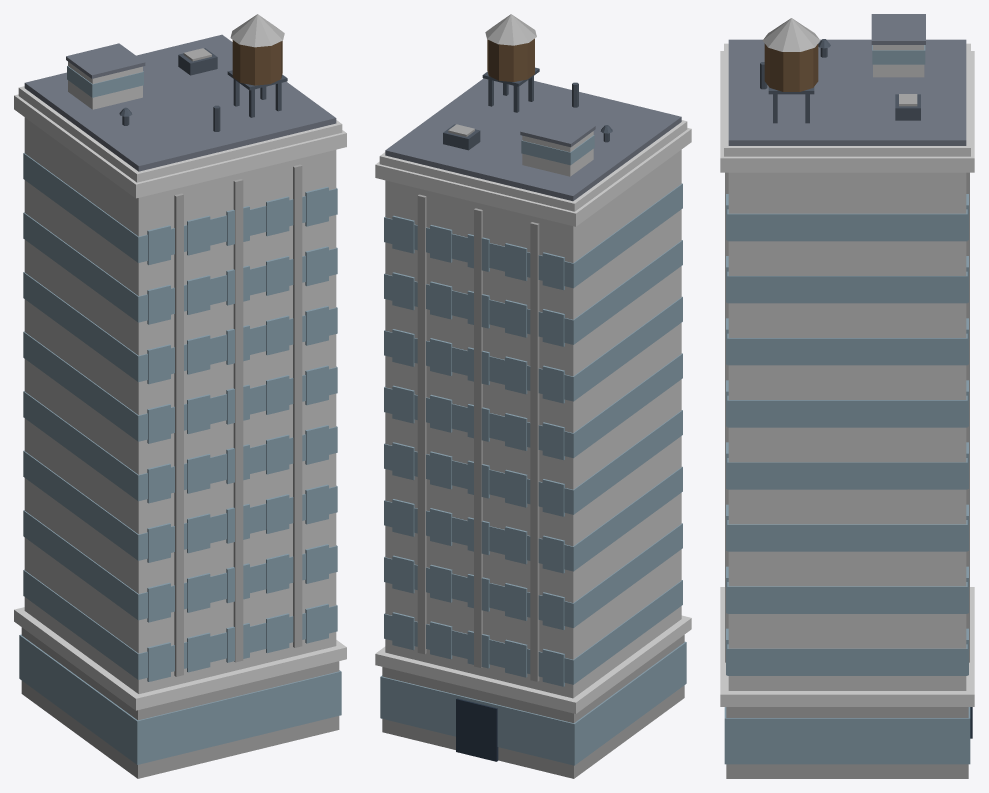
File: building_medium_loft.glb
3 renders of one model, left to right at view 1: azimuth 30°, elevation 25°; view 2: azimuth 150°, elevation 25°; view 3: azimuth 270°, elevation 25°, orthographic. The views are drawn at different scales.
Visible parts, largest first — view 1: building_medium_loft; view 2: building_medium_loft; view 3: building_medium_loft.
Boxes of the visible parts, x1,y1,x2,y2 form: building_medium_loft: [14, 14, 346, 778]; building_medium_loft: [375, 14, 691, 778]; building_medium_loft: [720, 14, 974, 778].
Bounding box in the file's own units: 11.22 × 35.83 × 11.22.
